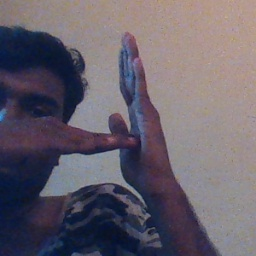Z: (64, 30, 175, 192)
